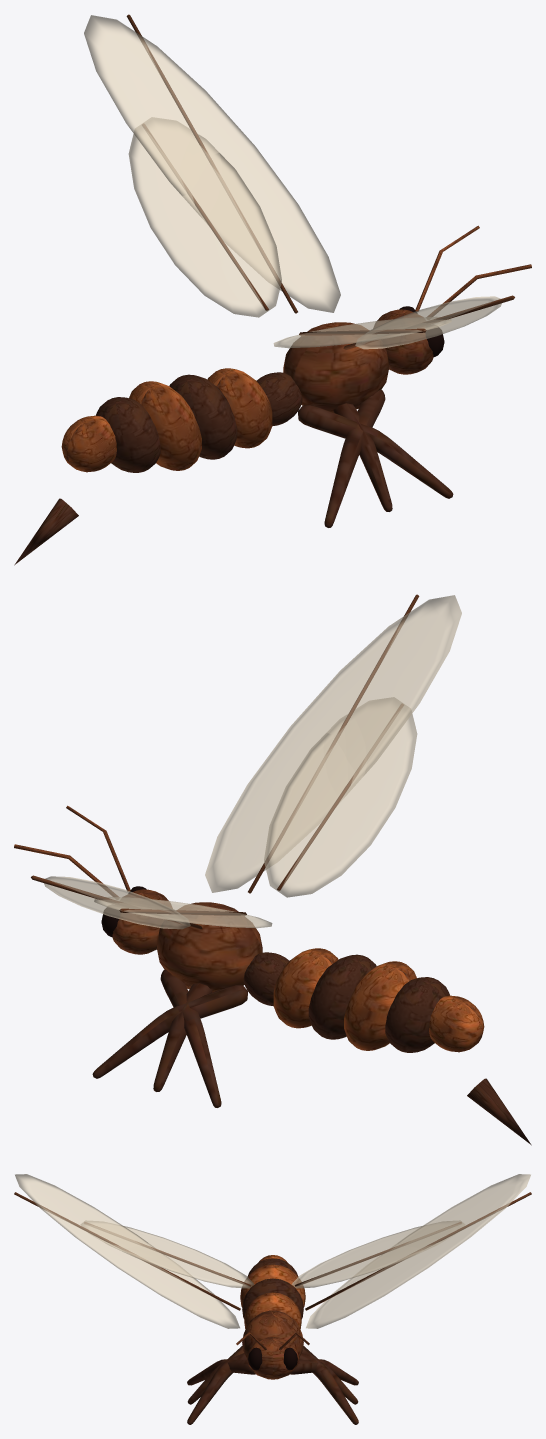
Rendered from bug_gargoyle.glb.
3 renders of one model, top to bottom at view 1: azimuth 30°, elevation 25°; view 2: azimuth 150°, elevation 25°; view 3: azimuth 270°, elevation 25°, orthographic. The views are drawn at different scales.
Visible parts, largest first — view 1: bug_gargoyle; view 2: bug_gargoyle; view 3: bug_gargoyle.
Part boxes in pixels (x1,y1,x2,y2): bug_gargoyle: [14, 14, 531, 565]; bug_gargoyle: [14, 594, 531, 1145]; bug_gargoyle: [14, 1174, 531, 1424].
Size of the model in its own units: 1.47 by 0.9826 by 2.
6 materials, 3 textured.
